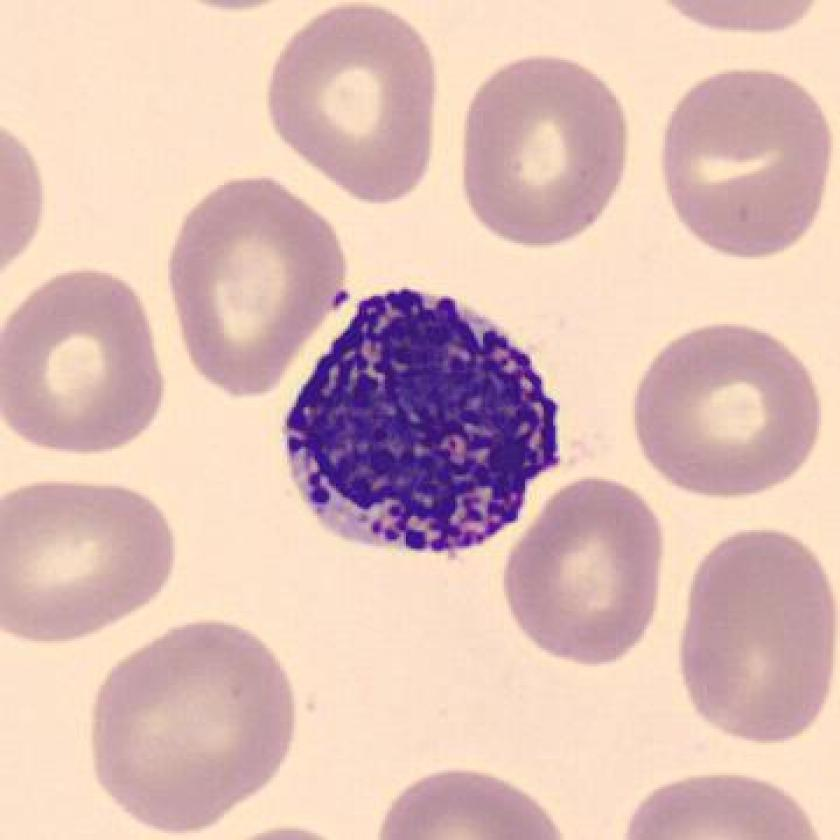basophil: (253, 270, 587, 580)
